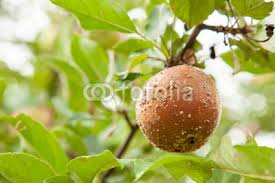damaged_apple: (136, 69, 222, 152)
